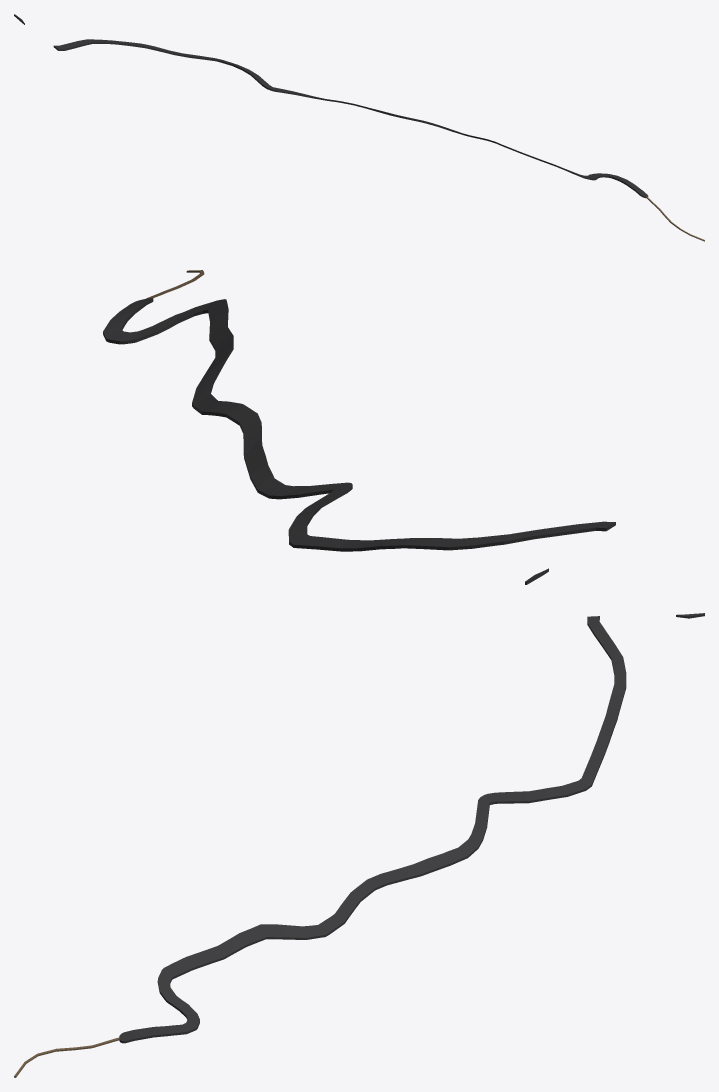
3 views of the same model, one above another, from view 1: azimuth 30°, elevation 25°; view 2: azimuth 150°, elevation 25°; view 3: azimuth 270°, elevation 25° (orthographic). The views are drawn at different scales.
Size of the model in its own units: 336 by 105 by 353.
